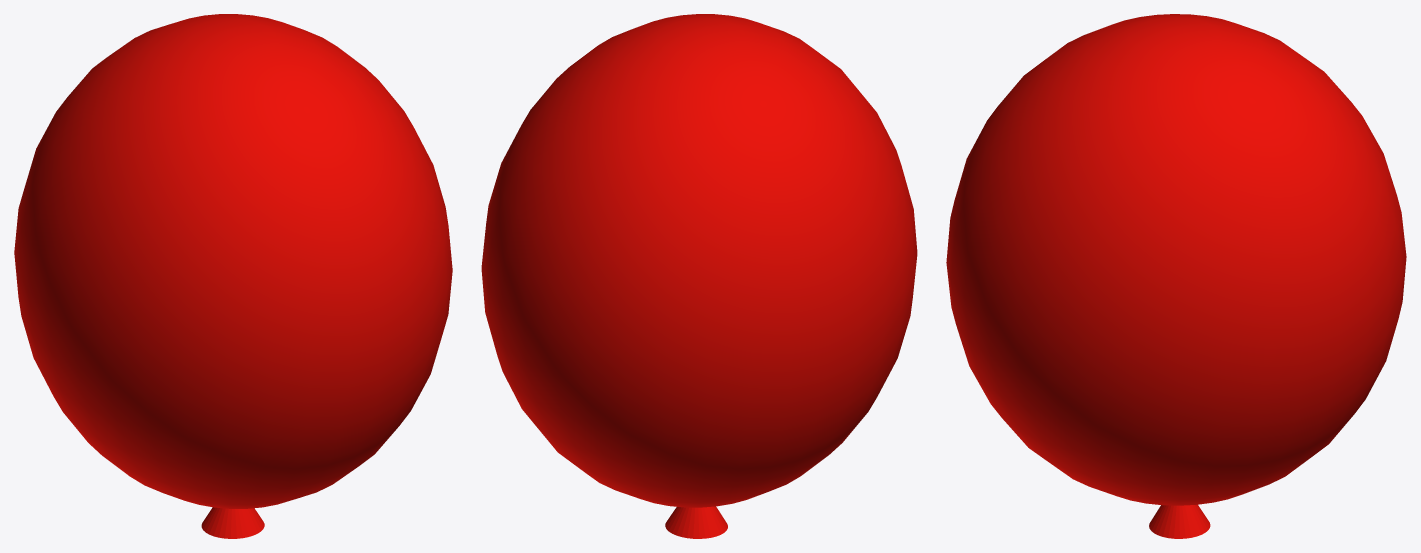
The model's file is balloon2.glb.
3 views of the same model, side by side, from view 1: azimuth 30°, elevation 25°; view 2: azimuth 150°, elevation 25°; view 3: azimuth 270°, elevation 25° (orthographic).
Visible parts, largest first — view 1: Sphere, Cone; view 2: Sphere, Cone; view 3: Sphere, Cone.
Part boxes in pixels (x1,y1,x2,y2): Sphere: [14, 14, 452, 508]; Cone: [201, 507, 264, 538]; Sphere: [481, 14, 917, 507]; Cone: [665, 506, 727, 538]; Sphere: [946, 14, 1406, 505]; Cone: [1149, 504, 1210, 538].
Size of the model in its own units: 2.2 by 2.79 by 2.36.
